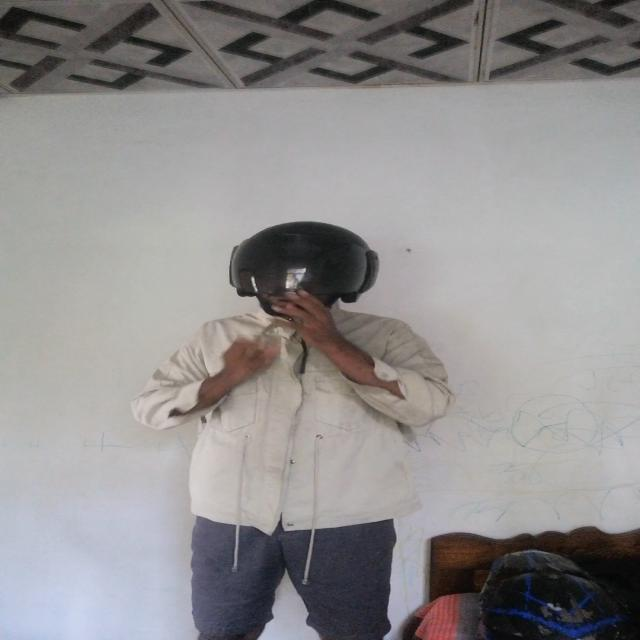Helmet_Wearer: (198, 222, 406, 328)
Jacket_Wearer: (153, 306, 440, 537)
Person: (166, 219, 462, 640)
